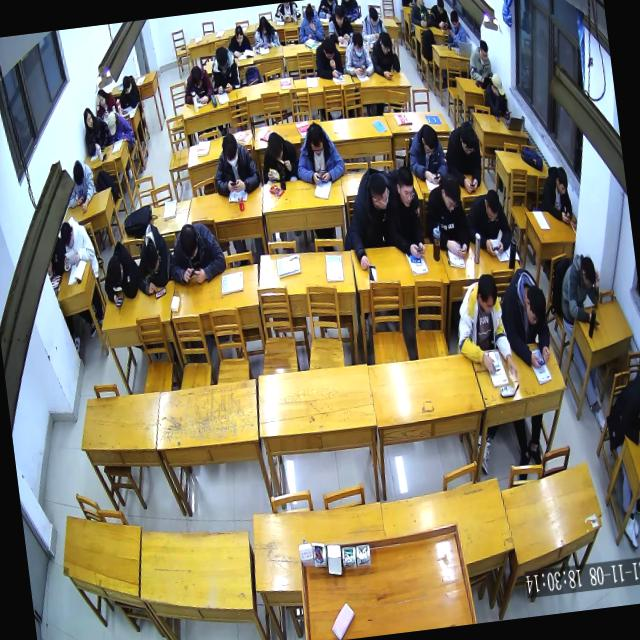bow: (494, 266, 552, 370), (166, 218, 228, 286), (130, 220, 174, 296), (98, 239, 141, 307), (104, 109, 136, 153), (181, 64, 213, 104), (226, 24, 252, 58), (116, 72, 140, 108), (427, 0, 451, 28)
down: (474, 272, 498, 315), (394, 166, 416, 207), (177, 222, 199, 260), (138, 241, 160, 273), (439, 180, 462, 210), (220, 132, 239, 168), (458, 120, 477, 154), (306, 122, 325, 156), (483, 188, 501, 222), (580, 256, 596, 290), (266, 132, 284, 162), (106, 256, 124, 286), (554, 166, 569, 196), (420, 127, 436, 155), (59, 221, 74, 248), (214, 46, 230, 70), (72, 160, 85, 186), (351, 32, 364, 58), (378, 30, 392, 54), (490, 72, 504, 96), (322, 38, 336, 60), (106, 111, 118, 135), (334, 4, 346, 27), (190, 66, 202, 87), (448, 8, 459, 28), (234, 24, 244, 44), (368, 6, 378, 26), (479, 40, 489, 60), (121, 75, 132, 93), (96, 90, 107, 107), (258, 16, 268, 34), (304, 4, 314, 22), (436, 0, 445, 13), (326, 0, 332, 4)
sit: (448, 271, 518, 385), (335, 165, 399, 271), (422, 178, 472, 260), (386, 163, 426, 258), (555, 252, 604, 328), (291, 119, 346, 186), (464, 186, 514, 258), (210, 130, 262, 196), (442, 118, 484, 196), (601, 374, 640, 450), (404, 122, 448, 186), (58, 214, 100, 281), (538, 163, 574, 225), (259, 130, 300, 184), (64, 157, 98, 210), (369, 29, 402, 82), (207, 44, 240, 94), (341, 29, 374, 78), (80, 106, 110, 156), (482, 72, 510, 120), (312, 36, 343, 78), (325, 3, 355, 44), (295, 5, 325, 42), (466, 39, 493, 80), (358, 4, 387, 42), (252, 14, 280, 48), (442, 8, 467, 46), (93, 86, 117, 116), (406, 0, 430, 28)
